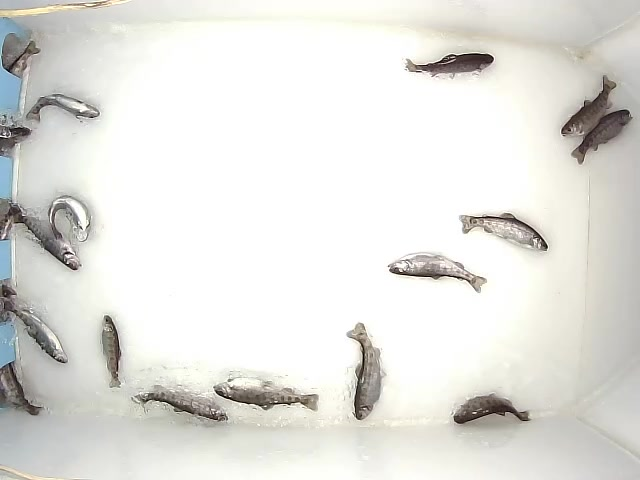fish: (8, 204, 81, 273), (213, 373, 322, 416), (386, 251, 490, 294), (457, 207, 550, 253), (346, 321, 386, 424), (8, 299, 68, 364), (559, 73, 618, 139), (569, 107, 635, 166), (127, 383, 229, 421), (397, 51, 498, 79), (451, 392, 532, 426), (22, 89, 102, 123), (50, 192, 91, 251), (98, 311, 125, 392)
